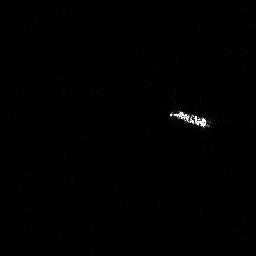ship: (169, 110, 207, 128)
